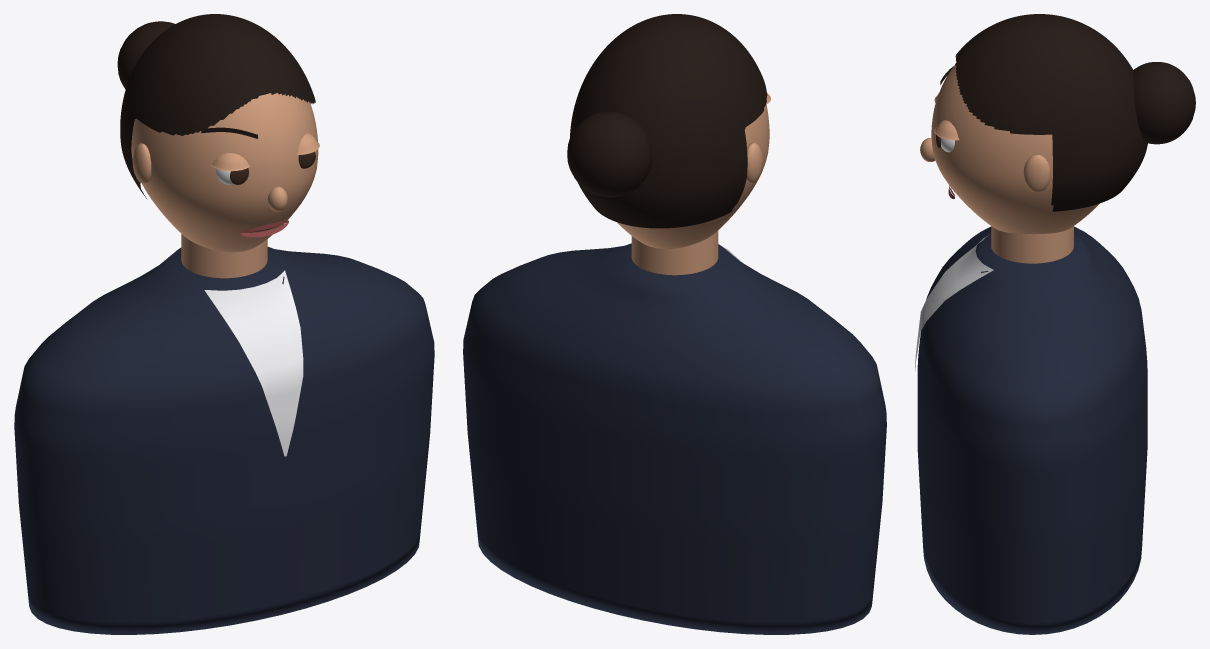
File: criminal.glb
The picture shows the model from 3 angles, left to right: view 1: azimuth 30°, elevation 25°; view 2: azimuth 150°, elevation 25°; view 3: azimuth 270°, elevation 25°; orthographic projection. The views are drawn at different scales.
Parts seen in each view (by area): view 1: Torso, Face, Hair, Shirt, Neck, Bun, EarRight; view 2: Torso, Hair, Bun, Face, Neck; view 3: Torso, Hair, Face, Bun, Neck, Shirt, EarLeft.
Part boxes in pixels (bbox=[...]): Torso: bbox=[14, 247, 434, 634]; Face: bbox=[131, 93, 318, 252]; Hair: bbox=[120, 14, 315, 199]; Shirt: bbox=[204, 270, 303, 456]; Neck: bbox=[181, 234, 267, 278]; Bun: bbox=[117, 21, 175, 89]; EarRight: bbox=[132, 143, 151, 183]; Torso: bbox=[463, 243, 886, 634]; Hair: bbox=[570, 14, 767, 228]; Bun: bbox=[567, 111, 652, 197]; Face: bbox=[617, 104, 769, 248]; Neck: bbox=[631, 230, 718, 275]; Torso: bbox=[917, 226, 1147, 634]; Hair: bbox=[955, 14, 1147, 211]; Face: bbox=[931, 64, 1099, 234]; Bun: bbox=[1133, 62, 1195, 144]; Neck: bbox=[991, 226, 1073, 263]; Shirt: bbox=[915, 234, 993, 370]; EarLeft: bbox=[1023, 154, 1050, 192].
Bounding box in the file's own units: 0.389 × 0.5049 × 0.2442.
